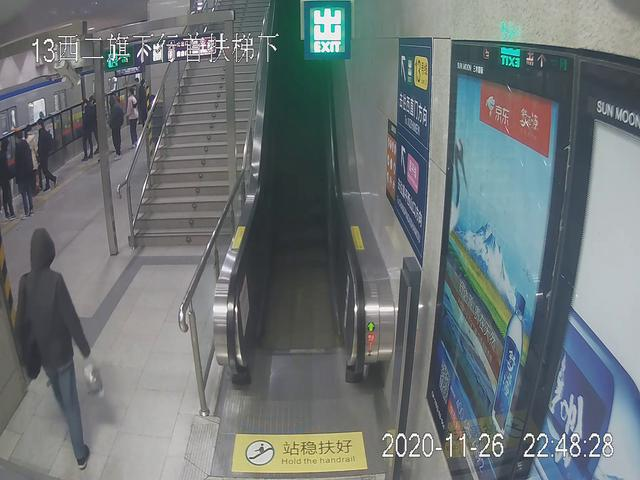person: (16, 225, 93, 473), (14, 132, 39, 217), (37, 116, 60, 190), (107, 90, 124, 162), (82, 97, 97, 163), (124, 84, 139, 149)
